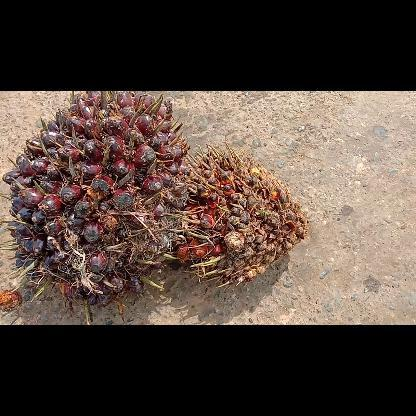Kurang masak: (0, 90, 198, 324)
TBS abnormal: (171, 142, 309, 286)
